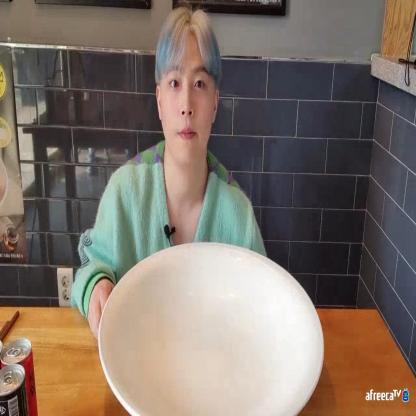streamer: (70, 0, 268, 342)
